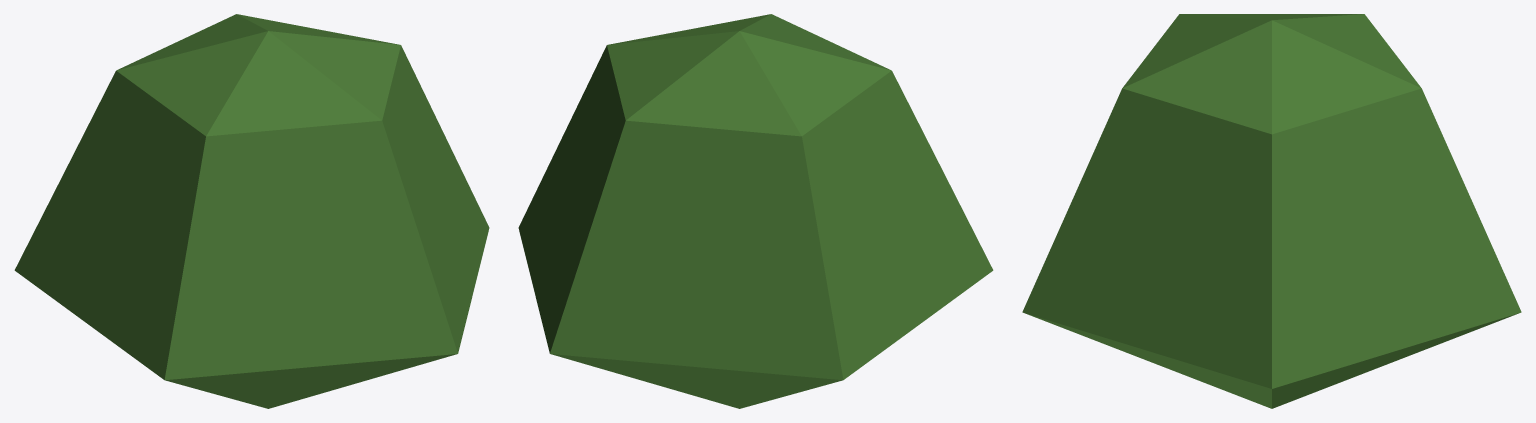
Rendered from shrub.L0.bfc4aa65.glb.
The picture shows the model from 3 angles, left to right: view 1: azimuth 30°, elevation 25°; view 2: azimuth 150°, elevation 25°; view 3: azimuth 270°, elevation 25°; orthographic projection. The views are drawn at different scales.
Visible parts, largest first — view 1: A-TREES-SHRUB; view 2: A-TREES-SHRUB; view 3: A-TREES-SHRUB.
Boxes of the visible parts, box(x1,y1,x2,y2) form: A-TREES-SHRUB: box(14, 14, 489, 408); A-TREES-SHRUB: box(518, 14, 993, 408); A-TREES-SHRUB: box(1022, 14, 1521, 408).
Bounding box in the file's own units: 2.71 × 2.45 × 2.85.
